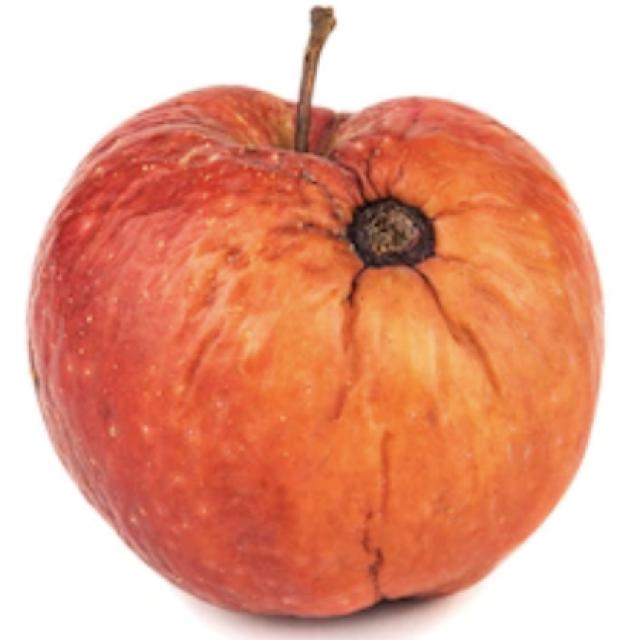rotten_apple: (33, 7, 604, 623)
